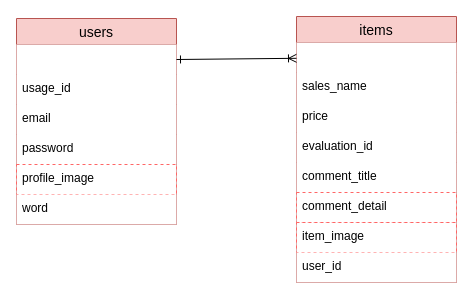
This 473x299 diagram has some shape labels left out. The centre of each missing label's shape, as x and y in pixels:
category_id: (376,57)
nickname: (96,59)
